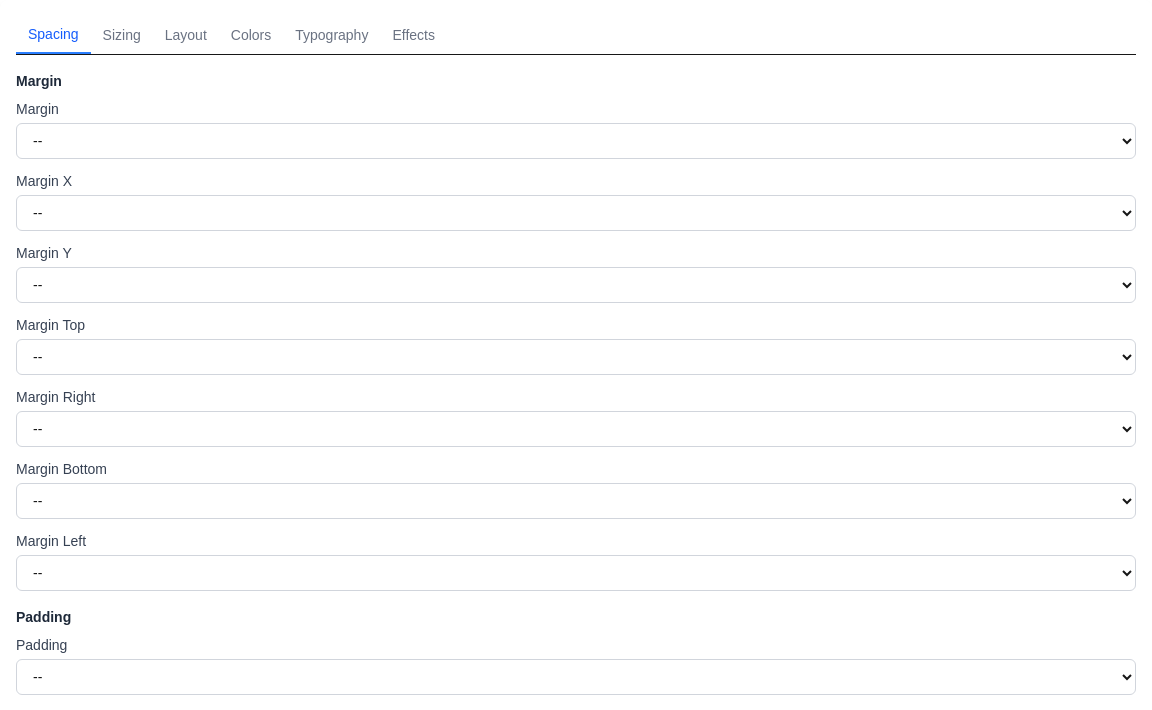
Test: TailwindClassEditor › tab navigation › switches to Layout tab on click
The image size is (1152, 710).
Click the tab "Layout" at point(186, 35), box [153, 16, 219, 54]
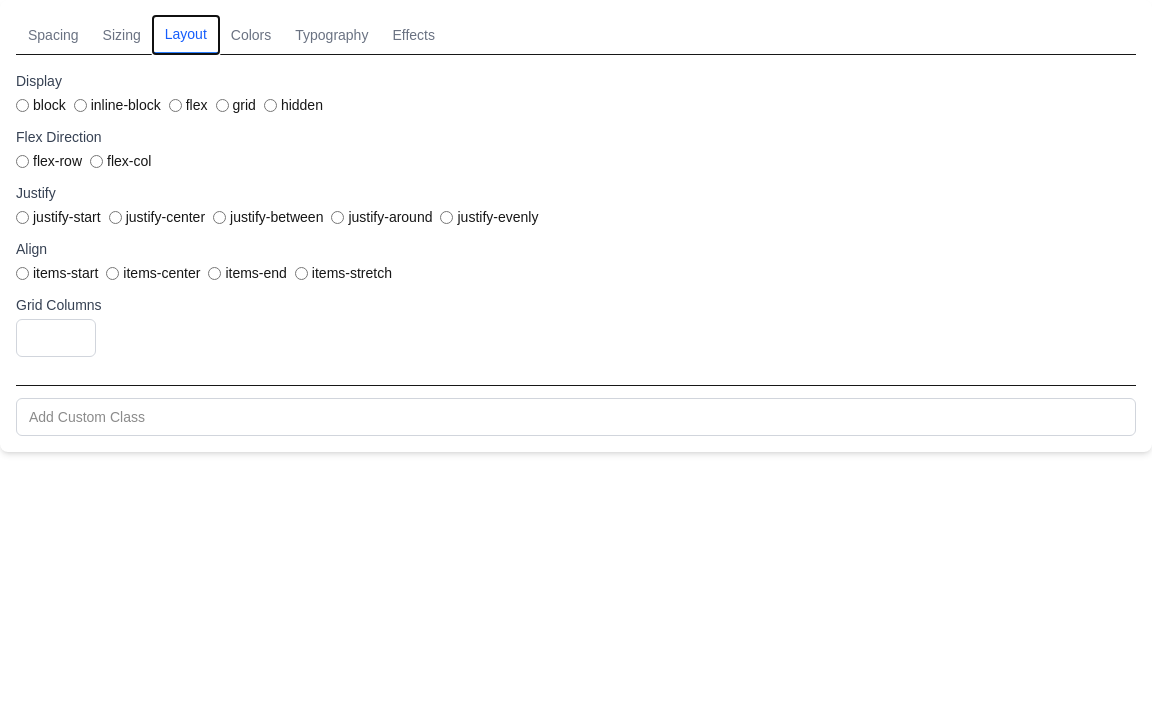
Check: the text "Display" is shown, box [16, 71, 62, 91]
